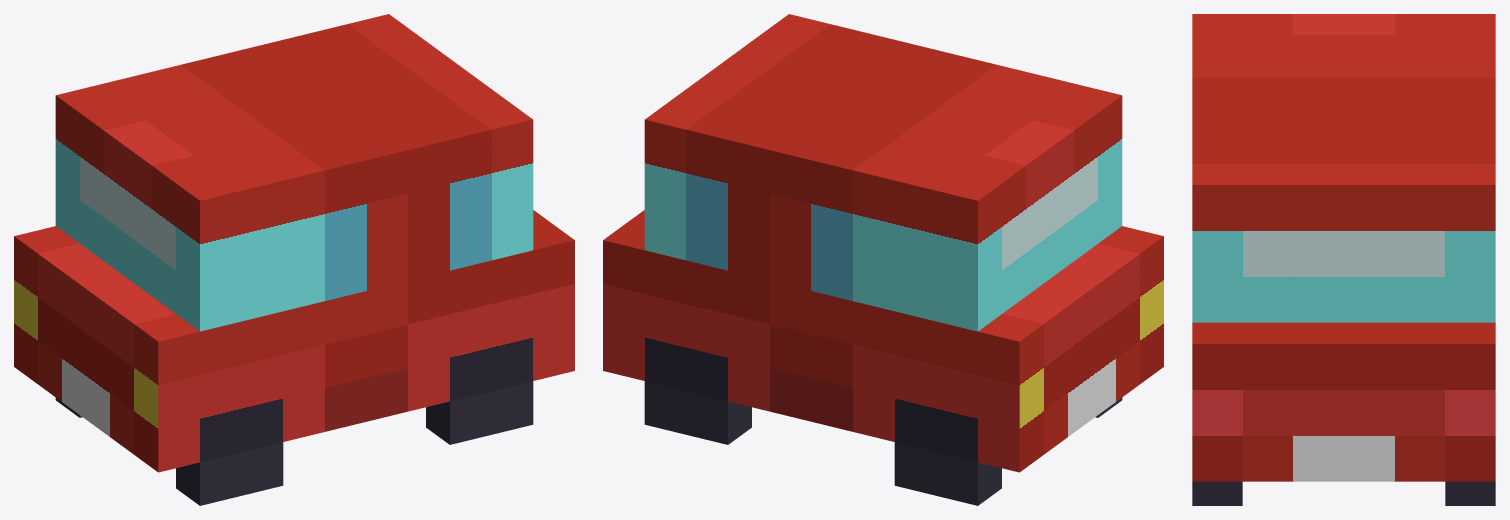
File: car-toy.gltf
The picture shows the model from 3 angles, left to right: view 1: azimuth 30°, elevation 25°; view 2: azimuth 150°, elevation 25°; view 3: azimuth 270°, elevation 25°; orthographic projection. The views are drawn at different scales.
Parts seen in each view (by area): view 1: cube (×4); view 2: cube (×4); view 3: cube (×4).
Part boxes in pixels (x1,y1,x2,y2): cube (×4): [14, 14, 574, 505]; cube (×4): [603, 14, 1163, 505]; cube (×4): [1192, 14, 1495, 505].
Bounding box in the file's own units: 0.3125 × 0.2188 × 0.1875.
Materials: 1 (1 with a texture image).
